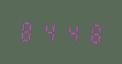eight: (18, 18, 38, 43), (81, 20, 101, 45)
four: (60, 19, 80, 44), (39, 19, 59, 43)
